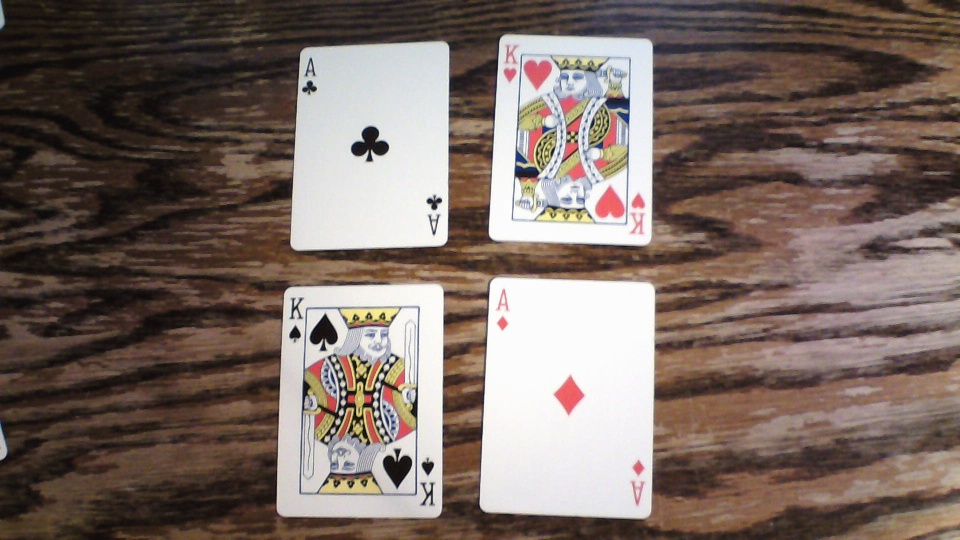ace: (481, 276, 654, 518), (293, 41, 448, 247)
king: (279, 280, 442, 518), (488, 32, 653, 246)
